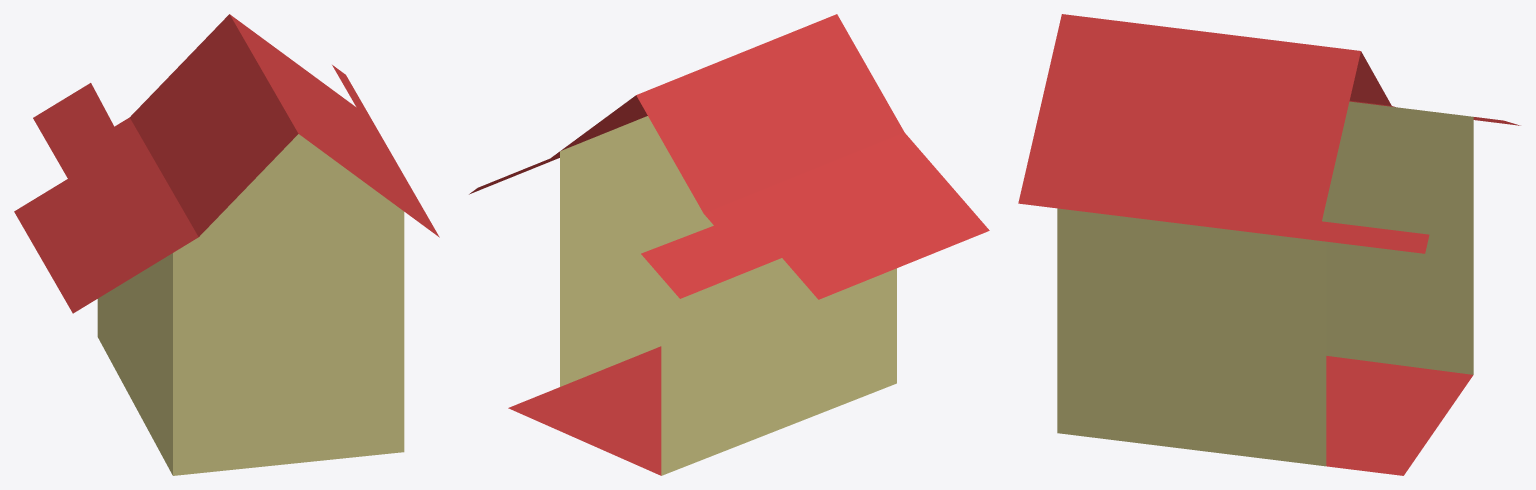
3 renders of one model, left to right at view 1: azimuth 30°, elevation 25°; view 2: azimuth 150°, elevation 25°; view 3: azimuth 270°, elevation 25°, orthographic. The views are drawn at different scales.
Bounding box in the file's own units: 16.04 × 15.95 × 12.77.
